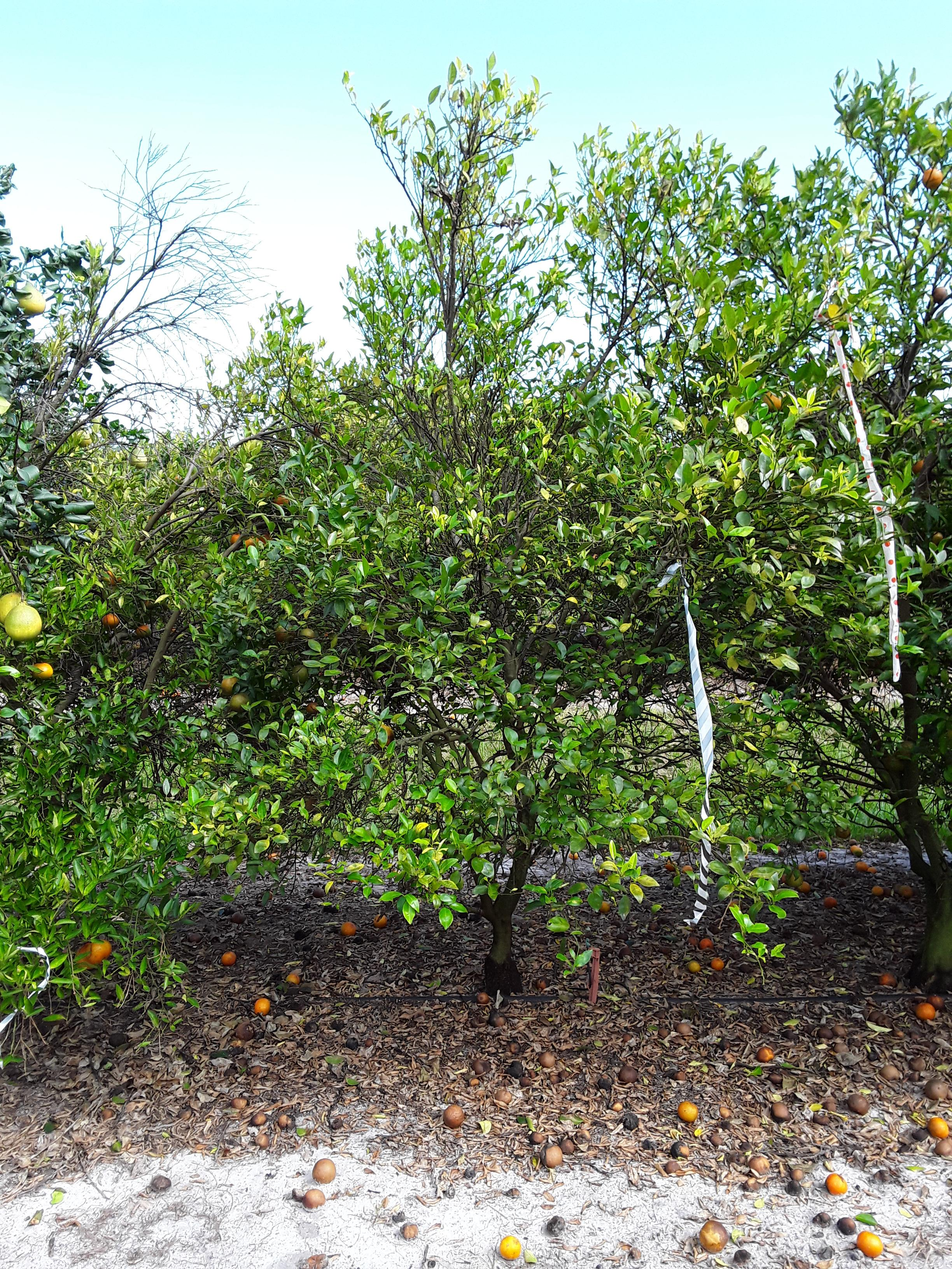fruit_on_ground: (5, 602, 46, 642), (14, 285, 49, 318), (73, 938, 109, 970), (0, 589, 28, 626), (759, 387, 790, 416), (919, 164, 947, 191), (370, 721, 396, 748), (98, 565, 127, 589), (285, 659, 311, 684), (30, 659, 56, 682), (227, 689, 252, 711), (217, 673, 241, 695), (929, 281, 951, 305), (894, 739, 917, 760), (271, 623, 294, 644), (73, 430, 95, 451), (318, 623, 340, 644), (128, 449, 150, 470), (100, 611, 123, 631), (908, 454, 928, 475), (297, 624, 319, 643), (715, 880, 735, 900), (785, 869, 805, 888), (225, 528, 245, 547), (271, 490, 292, 508), (135, 621, 154, 640), (302, 698, 321, 717), (242, 533, 260, 553), (833, 822, 852, 839), (257, 530, 275, 547), (264, 848, 282, 863), (929, 530, 945, 545)
fruit_on_tree: (698, 1220, 730, 1252), (856, 1229, 885, 1258), (310, 1157, 337, 1184), (926, 1089, 952, 1117), (308, 1170, 336, 1196), (924, 1076, 952, 1101), (499, 1234, 523, 1261), (926, 1115, 951, 1140), (441, 1103, 466, 1128), (845, 1092, 870, 1115), (302, 1186, 327, 1209), (542, 1143, 564, 1168), (826, 1173, 849, 1196), (677, 1099, 699, 1123), (234, 1019, 257, 1041), (148, 1173, 172, 1192), (771, 1101, 792, 1122), (835, 1216, 857, 1236), (909, 1124, 932, 1143), (107, 1029, 130, 1048), (505, 1059, 528, 1078), (915, 1001, 936, 1021), (879, 1063, 902, 1081), (750, 1154, 771, 1173), (820, 1092, 839, 1112), (544, 1215, 565, 1233), (814, 1023, 835, 1041), (664, 1158, 685, 1176), (877, 970, 898, 988), (933, 1139, 952, 1158), (275, 1112, 294, 1131), (252, 996, 271, 1015), (732, 1249, 752, 1267), (617, 1065, 637, 1083), (926, 993, 946, 1011), (493, 1086, 513, 1104), (537, 1051, 557, 1069), (755, 1045, 775, 1063), (621, 1113, 640, 1131), (559, 1137, 578, 1155), (401, 1222, 420, 1240), (472, 1056, 491, 1074), (338, 919, 357, 937), (908, 1056, 928, 1073), (487, 1012, 507, 1029), (810, 1111, 831, 1127), (674, 1019, 695, 1035), (784, 1179, 803, 1196), (744, 1112, 763, 1129), (596, 897, 614, 914), (810, 929, 828, 946), (253, 1130, 270, 1148), (220, 949, 238, 966), (547, 1065, 566, 1081), (301, 1017, 320, 1033), (639, 1135, 659, 1150), (596, 1074, 613, 1091), (716, 1103, 733, 1120), (252, 1112, 269, 1129), (698, 935, 715, 952), (371, 912, 389, 928), (109, 1083, 127, 1099), (813, 1209, 831, 1225), (231, 1094, 249, 1110), (285, 970, 303, 986), (290, 926, 309, 941), (530, 1130, 547, 1146), (531, 977, 548, 993), (674, 1142, 691, 1158), (797, 878, 814, 894), (228, 909, 246, 924), (897, 883, 915, 898), (475, 989, 491, 1005), (906, 1070, 923, 1085), (617, 943, 633, 958), (686, 958, 702, 973), (249, 1063, 266, 1077), (710, 956, 725, 971), (507, 1041, 523, 1055), (768, 1072, 784, 1086), (99, 1106, 115, 1120), (310, 884, 326, 898), (822, 895, 838, 909), (848, 843, 865, 856), (746, 1176, 761, 1190), (518, 1075, 533, 1089), (791, 1166, 805, 1181), (346, 1035, 362, 1048), (711, 1131, 725, 1145), (685, 933, 699, 947), (611, 1099, 625, 1113), (672, 1068, 687, 1081), (871, 884, 886, 897), (854, 860, 870, 872), (656, 1026, 670, 1039), (187, 931, 201, 944), (815, 848, 829, 861), (663, 858, 677, 870), (681, 862, 695, 874), (468, 1075, 482, 1087), (647, 919, 659, 932), (796, 861, 810, 872), (363, 1036, 375, 1048), (595, 865, 608, 876), (566, 851, 580, 861), (883, 886, 894, 897), (866, 865, 877, 874)
